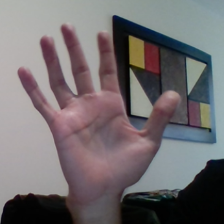left: (8, 15, 188, 189)
